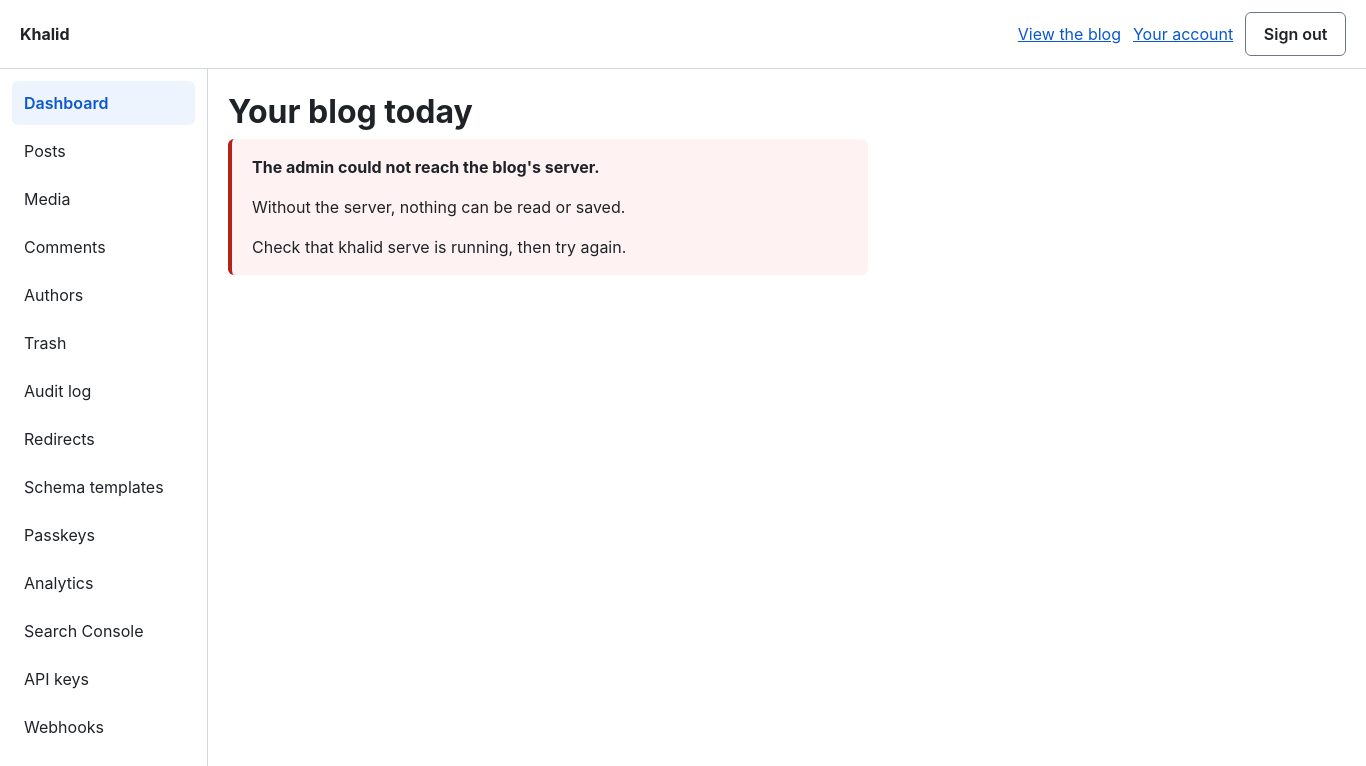
signing in › ends an email sign-in on the server when signing out
Click the button "Sign out": click(1296, 34) [1245, 12, 1346, 56]
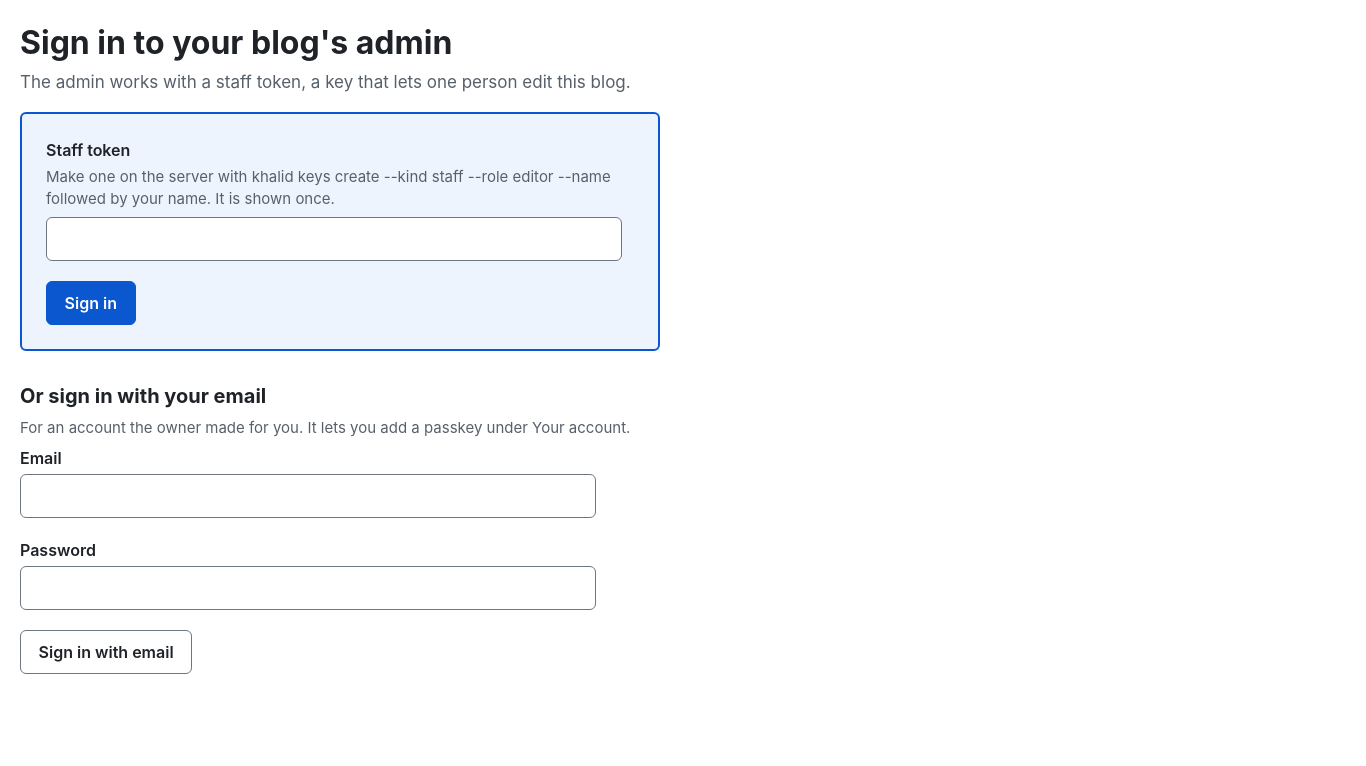
Now the heading "Sign in to your blog's admin" is shown, box [20, 23, 452, 62]
